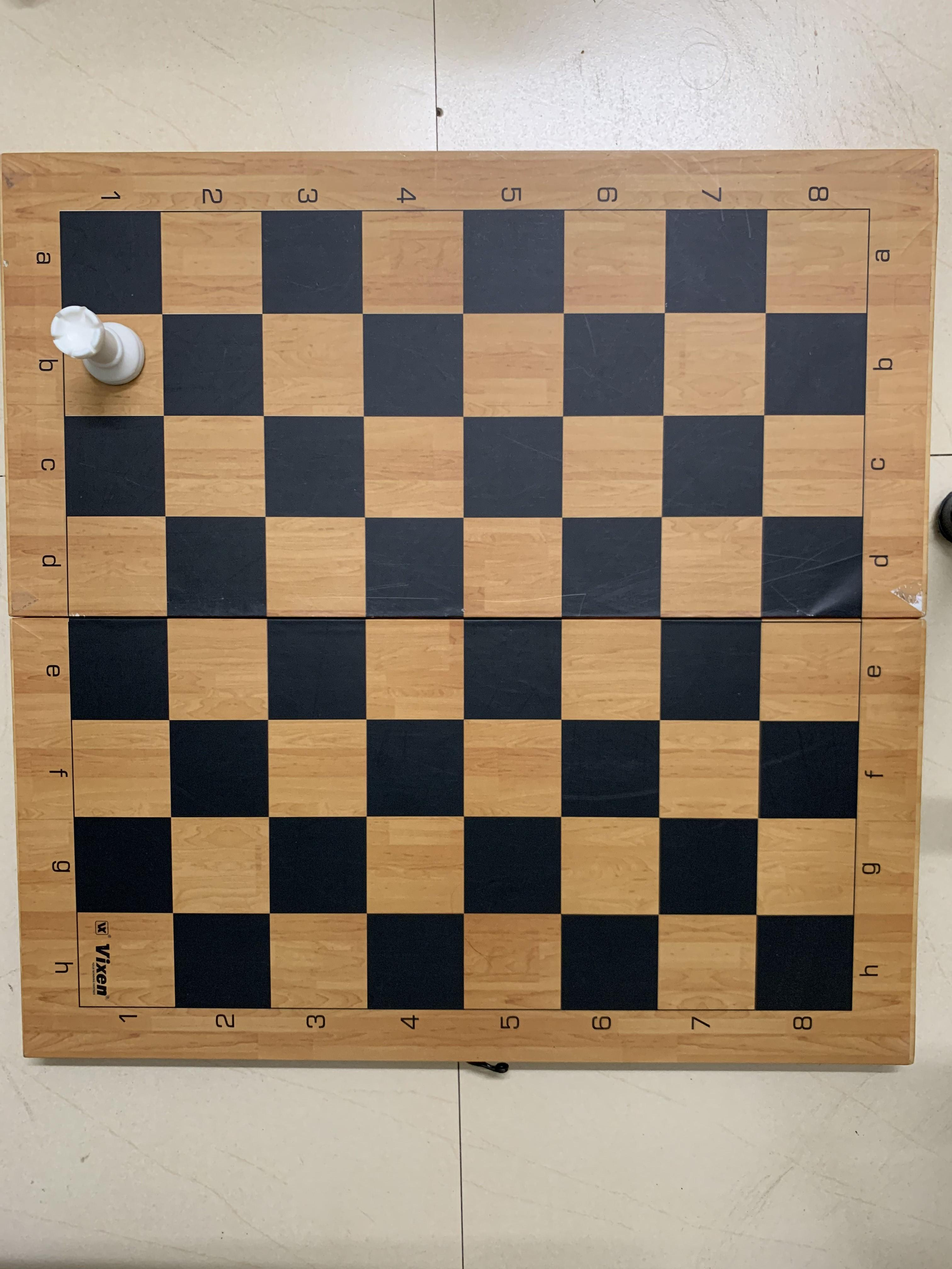white_rook: (57, 302, 164, 416)
